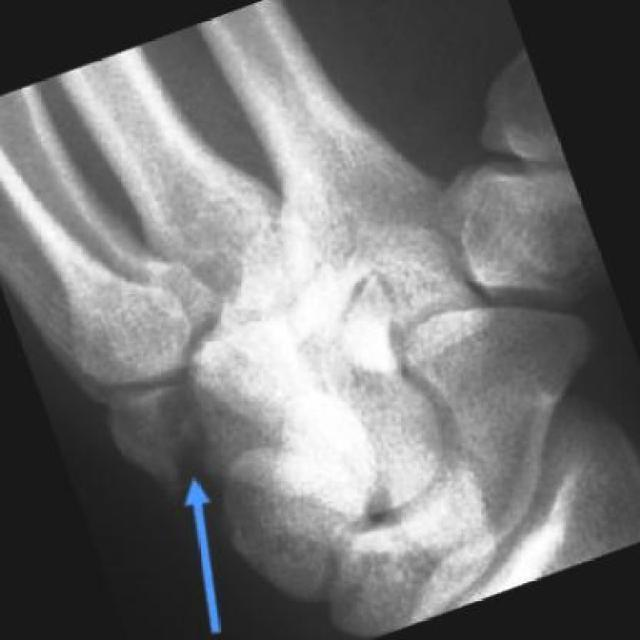Fracture: (123, 351, 252, 516)
